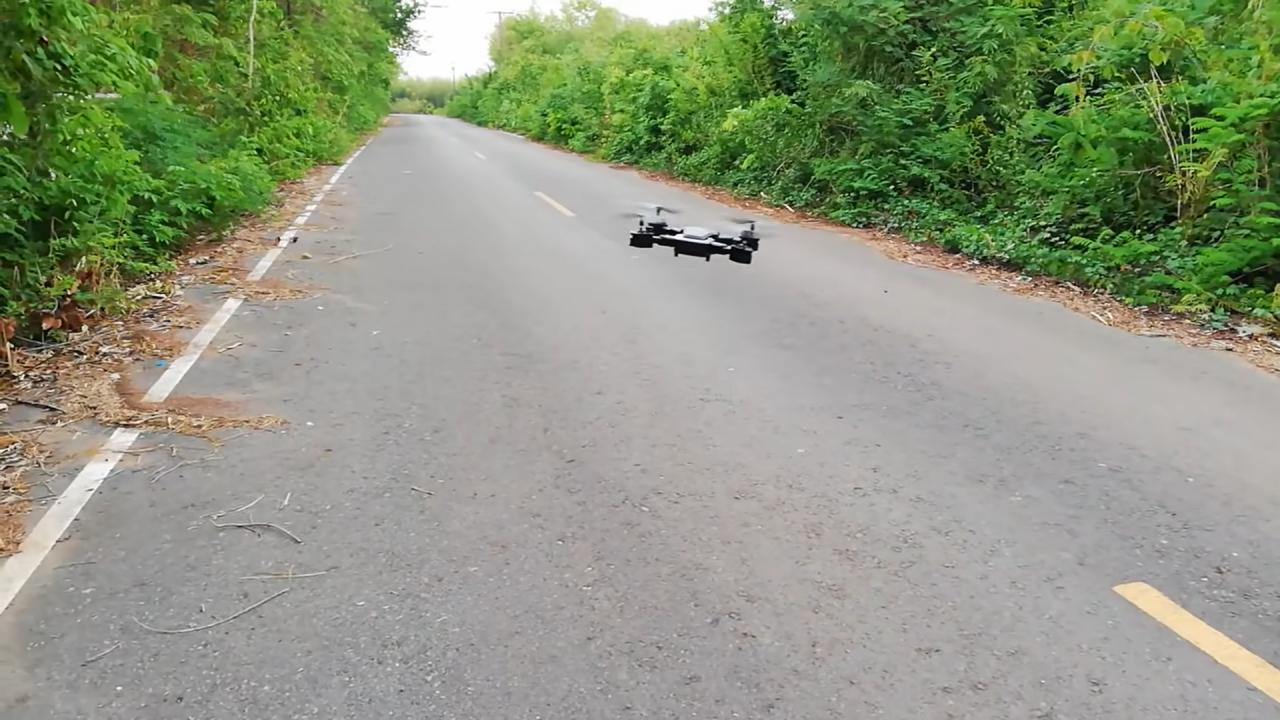Drone: (606, 195, 791, 275)
